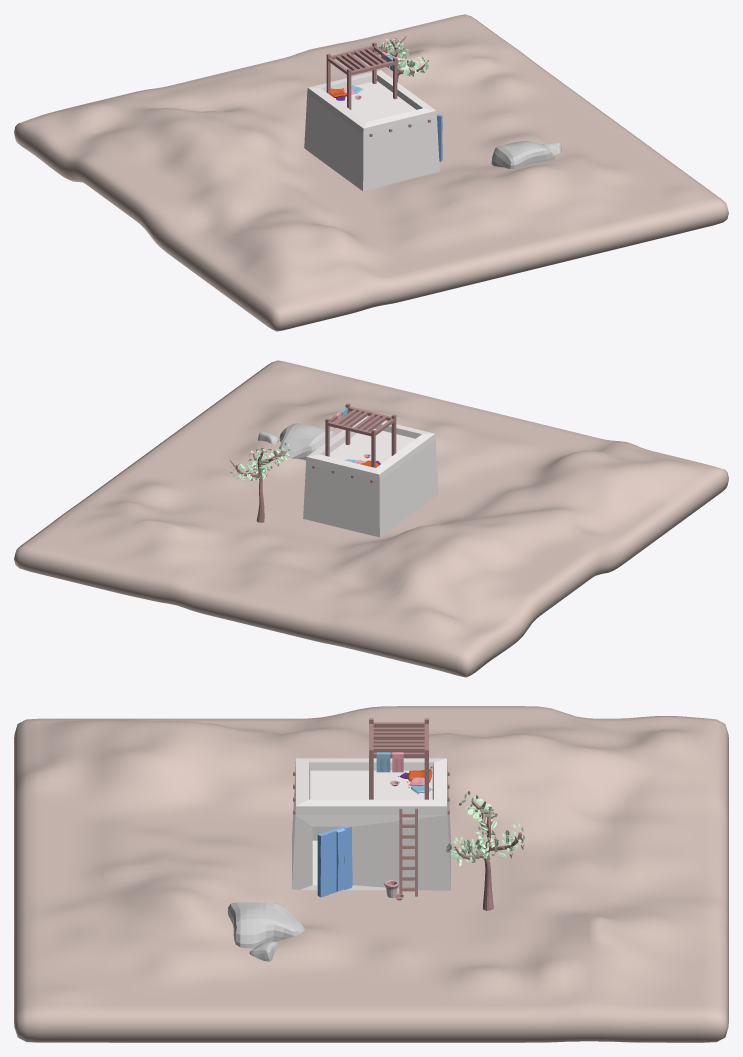
File: decor_grec.glb
3 renders of one model, top to bottom at view 1: azimuth 30°, elevation 25°; view 2: azimuth 150°, elevation 25°; view 3: azimuth 270°, elevation 25°, orthographic. The views are drawn at different scales.
Visible parts, largest first — view 1: Plane, Cube, Cube.001, Cube.029; view 2: Plane, Cube, Cube.001, Cube.029, Cube.009; view 3: Plane, Cube, Cube.029, Cube.001, Cube.002, Cube.028, Cube.009.
Part boxes in pixels (bbox=[...]): Plane: bbox=[14, 14, 728, 331]; Cube: bbox=[304, 70, 439, 191]; Cube.001: bbox=[326, 42, 397, 109]; Cube.029: bbox=[491, 141, 554, 168]; Plane: bbox=[14, 360, 728, 677]; Cube: bbox=[303, 417, 438, 537]; Cube.001: bbox=[325, 403, 396, 467]; Cube.029: bbox=[279, 423, 335, 460]; Cube.009: bbox=[230, 450, 285, 522]; Plane: bbox=[14, 706, 728, 1042]; Cube: bbox=[292, 758, 450, 890]; Cube.029: bbox=[227, 902, 304, 948]; Cube.001: bbox=[369, 718, 428, 799]; Cube.002: bbox=[317, 826, 352, 897]; Cube.028: bbox=[399, 808, 417, 896]; Cube.009: bbox=[454, 801, 521, 910].
Bounding box in the file's own units: 57.13 × 14.53 × 57.11.
